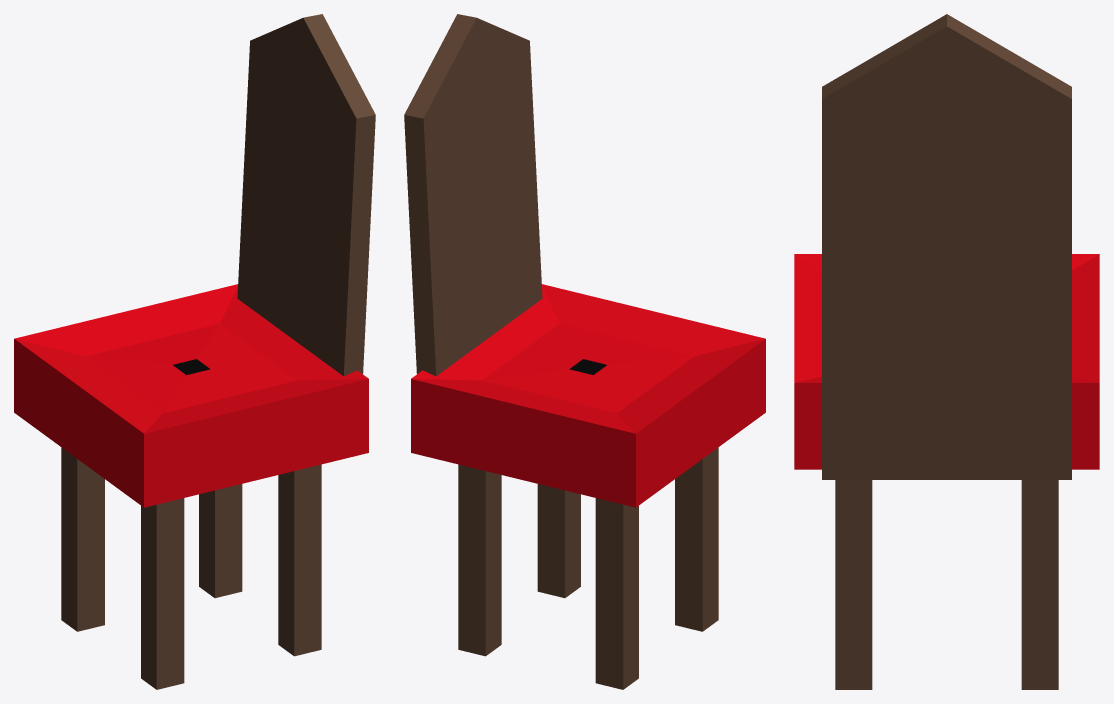
Rendered from krzesło.glb.
The picture shows the model from 3 angles, left to right: view 1: azimuth 30°, elevation 25°; view 2: azimuth 150°, elevation 25°; view 3: azimuth 270°, elevation 25°; orthographic projection. The views are drawn at different scales.
Visible parts, largest first — view 1: Cube.001, Cube.002, Cube; view 2: Cube.001, Cube.002, Cube; view 3: Cube.002, Cube, Cube.001.
Boxes of the visible parts, left/top/right/bottom form: Cube.001: left=14, top=284, right=368, bottom=507; Cube.002: left=237, top=14, right=375, bottom=376; Cube: left=61, top=447, right=321, bottom=689; Cube.001: left=411, top=284, right=765, bottom=507; Cube.002: left=404, top=14, right=542, bottom=376; Cube: left=458, top=447, right=718, bottom=689; Cube.002: left=822, top=14, right=1071, bottom=479; Cube: left=835, top=480, right=1058, bottom=689; Cube.001: left=794, top=254, right=1099, bottom=469.
Bounding box in the file's own units: 2.64 × 6.12 × 2.44.
